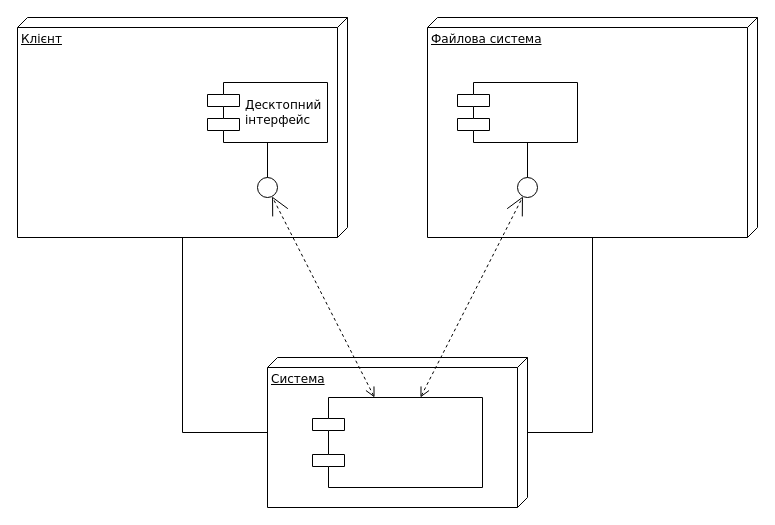
Image size: 775x525. Some labels were removed from this diagram. Each missing label, with the box of its shape:
Диск: (456, 82, 578, 142)
Система зберігання, обробки та керування даними.: (312, 396, 482, 488)
